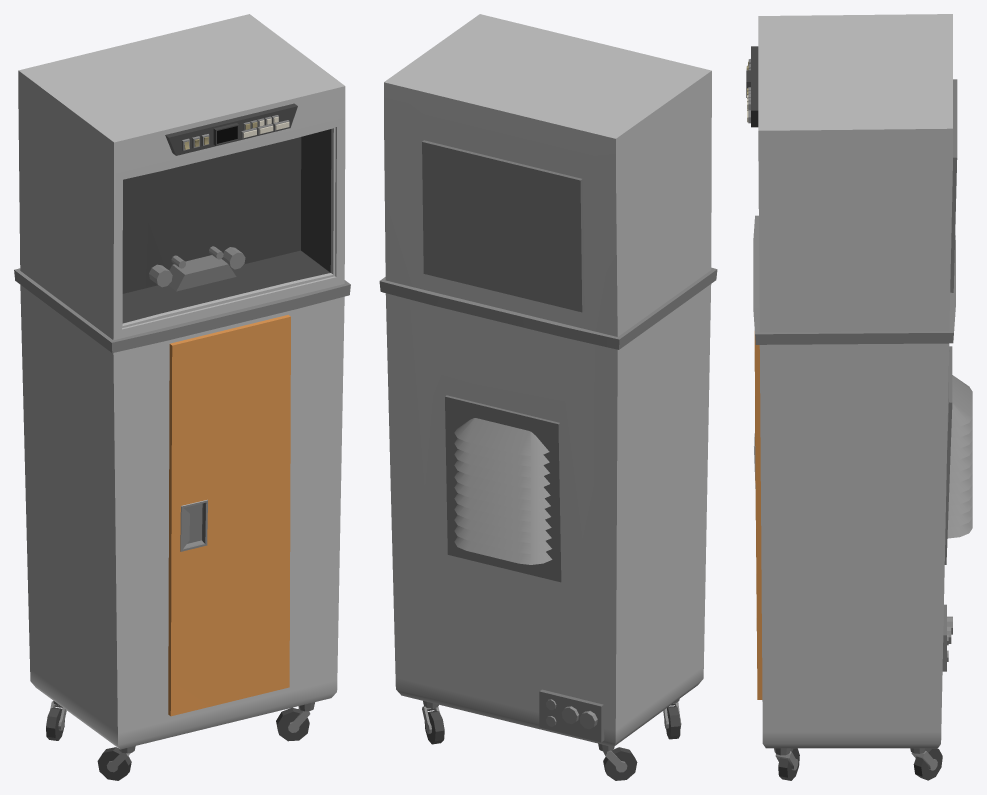
Rendered from Office Machine_1.fbx.
3 renders of one model, left to right at view 1: azimuth 30°, elevation 25°; view 2: azimuth 150°, elevation 25°; view 3: azimuth 270°, elevation 25°, orthographic.
Parts seen in each view (by area): view 1: Cube.022; view 2: Cube.022; view 3: Cube.022.
Part boxes in pixels (x1,y1,x2,y2): Cube.022: (14,14,350,780); Cube.022: (379,14,717,780); Cube.022: (746,14,972,780).
Size of the model in its own units: 0.8364 by 0.674 by 2.19.
